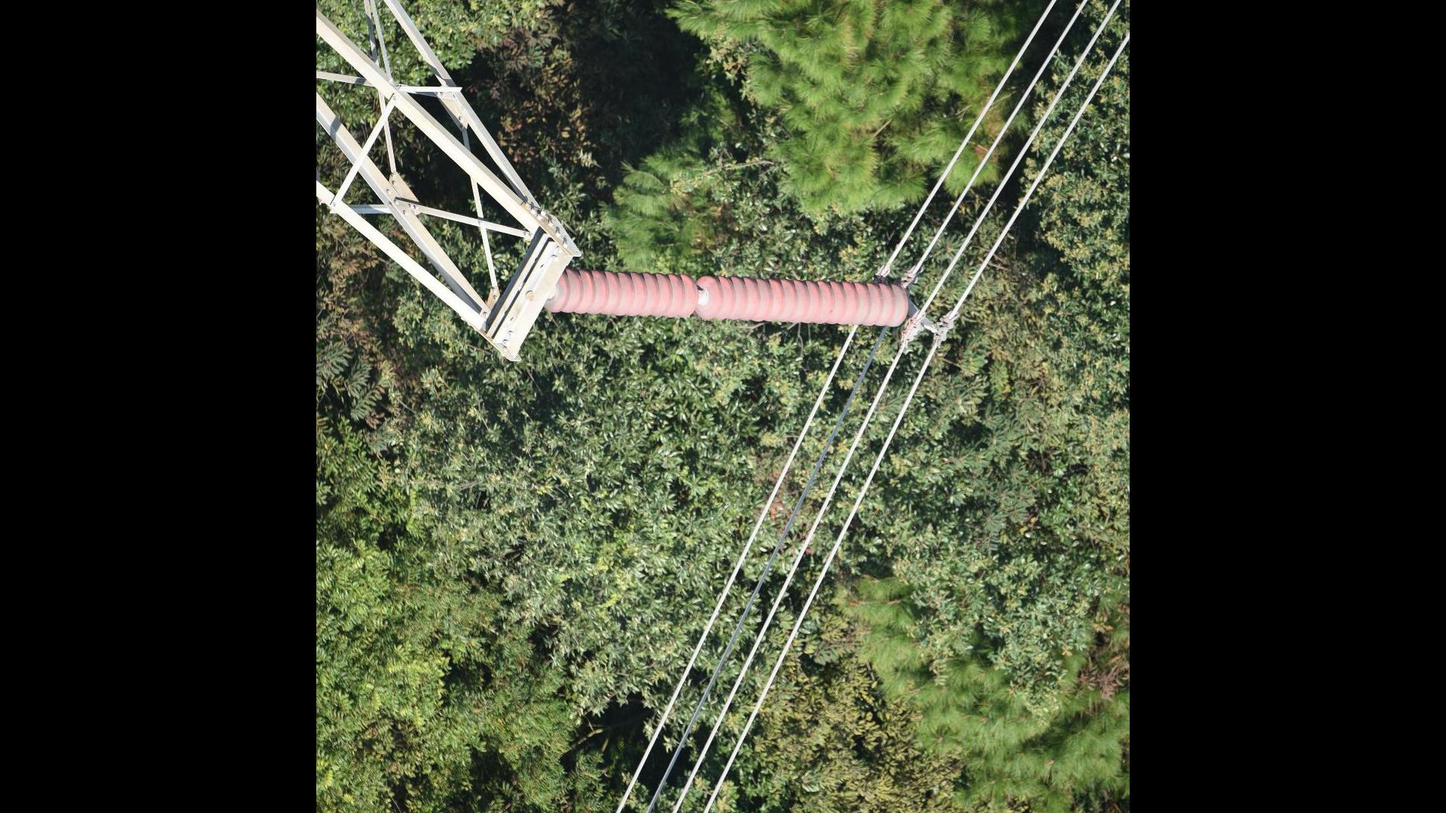insulator: (543, 264, 912, 333)
insulator_stringdrop: (677, 271, 724, 322)
